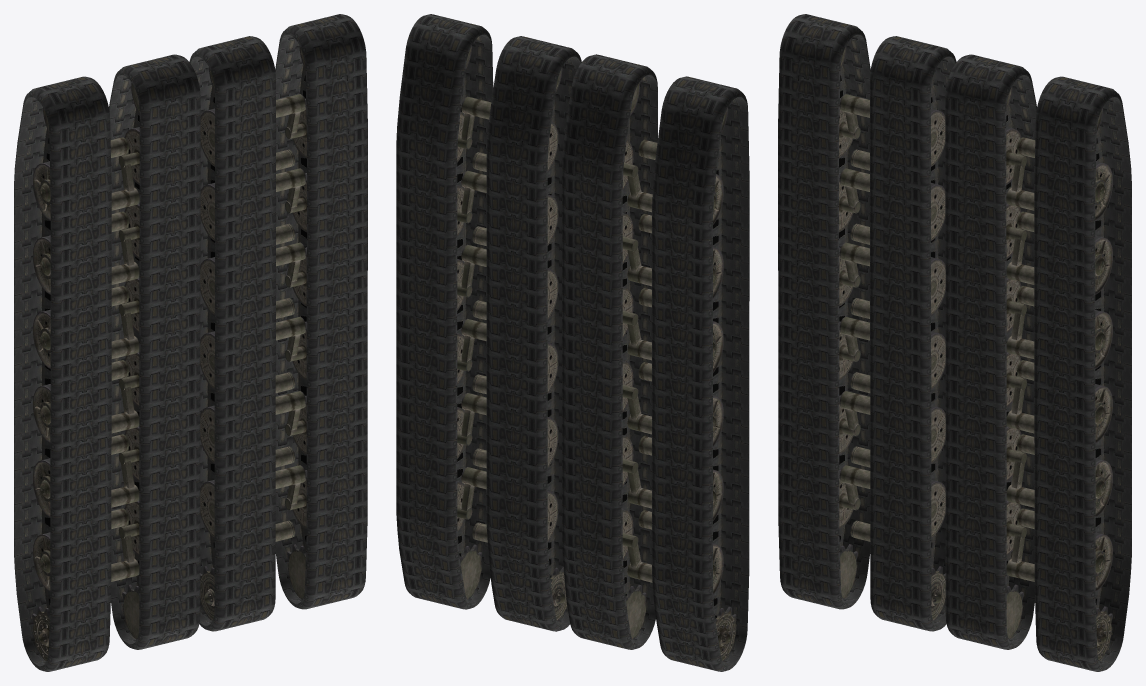
Rendered from Chassis.glb.
3 views of the same model, side by side, from view 1: azimuth 30°, elevation 25°; view 2: azimuth 150°, elevation 25°; view 3: azimuth 330°, elevation 25° (orthographic).
Visible parts, largest first — view 1: set_5_group_0, set_7_group_0, set_6_group_0, set_4_group_0, set_0_group_0, set_3_group_0, set_2_group_0, set_1_group_0; view 2: set_5_group_0, set_7_group_0, set_0_group_0, set_3_group_0, set_4_group_0, set_1_group_0, set_2_group_0, set_6_group_0; view 3: set_7_group_0, set_5_group_0, set_4_group_0, set_6_group_0, set_1_group_0, set_2_group_0, set_3_group_0, set_0_group_0.
Boxes of the visible parts, box(x1,y1,x2,y2) form: set_5_group_0: box(14, 54, 200, 671); set_7_group_0: box(189, 14, 367, 631); set_6_group_0: box(305, 405, 367, 588); set_4_group_0: box(48, 468, 111, 651); set_0_group_0: box(111, 82, 139, 639); set_3_group_0: box(275, 46, 306, 599); set_2_group_0: box(32, 108, 128, 660); set_1_group_0: box(200, 67, 295, 620); set_5_group_0: box(562, 54, 749, 671); set_7_group_0: box(396, 14, 581, 631); set_0_group_0: box(622, 82, 652, 639); set_3_group_0: box(457, 46, 491, 599); set_4_group_0: box(713, 452, 749, 630); set_1_group_0: box(472, 67, 567, 620); set_2_group_0: box(638, 107, 736, 660); set_6_group_0: box(457, 389, 489, 567); set_7_group_0: box(945, 54, 1131, 671); set_5_group_0: box(778, 14, 956, 631); set_4_group_0: box(778, 405, 840, 588); set_6_group_0: box(1034, 468, 1097, 651); set_1_group_0: box(1006, 86, 1034, 639); set_2_group_0: box(839, 46, 870, 598); set_3_group_0: box(1017, 108, 1112, 660); set_0_group_0: box(850, 75, 945, 620).
Bounding box in the file's own units: 3.43 × 6 × 0.8195.
Materials: 8 (8 with a texture image).
